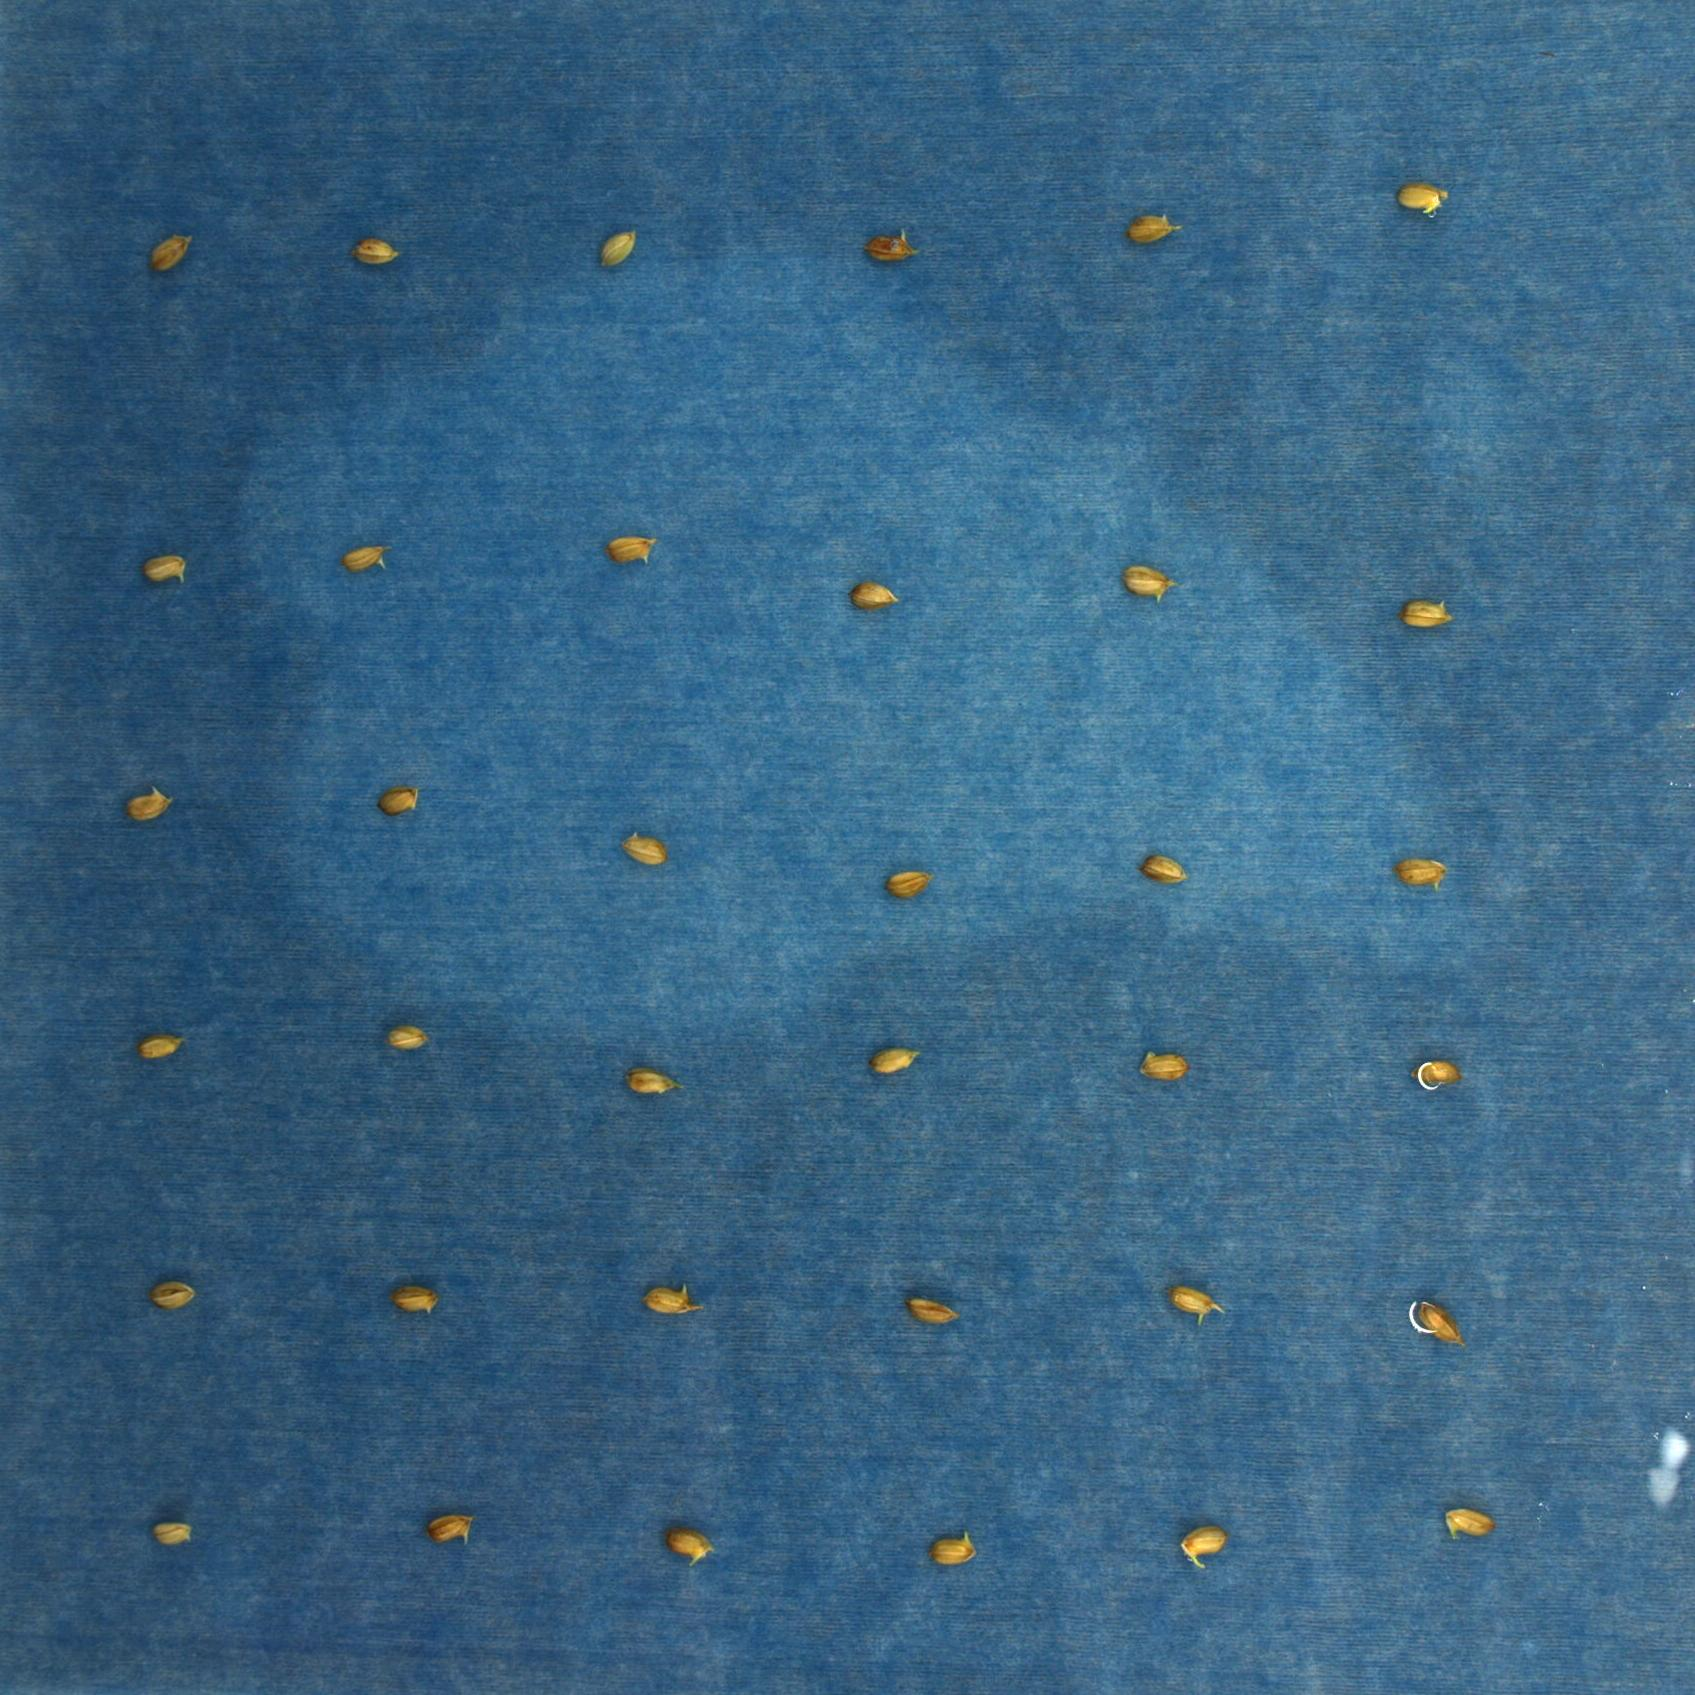not sprout: (1411, 1301, 1473, 1352), (861, 227, 924, 265), (1121, 208, 1184, 244), (1121, 565, 1173, 605), (1173, 1527, 1226, 1568), (1172, 1287, 1226, 1326), (646, 1281, 706, 1315), (146, 228, 192, 272), (626, 1063, 680, 1101), (615, 830, 666, 869), (1133, 1049, 1191, 1083), (598, 224, 640, 270), (126, 785, 174, 826), (903, 1291, 959, 1326), (419, 1513, 473, 1548), (882, 865, 934, 899), (1399, 183, 1447, 220), (340, 539, 390, 574), (605, 531, 660, 563), (1399, 598, 1454, 629), (1402, 858, 1451, 893), (1403, 1059, 1464, 1087), (666, 1527, 708, 1568), (140, 553, 186, 588), (352, 237, 400, 272), (1139, 854, 1192, 885), (1447, 1506, 1492, 1541), (127, 1031, 185, 1059), (933, 1530, 975, 1568), (155, 1277, 197, 1313), (874, 1043, 927, 1071), (847, 584, 900, 610), (377, 781, 421, 812), (394, 1288, 442, 1316), (385, 1023, 430, 1052), (154, 1520, 194, 1544)
